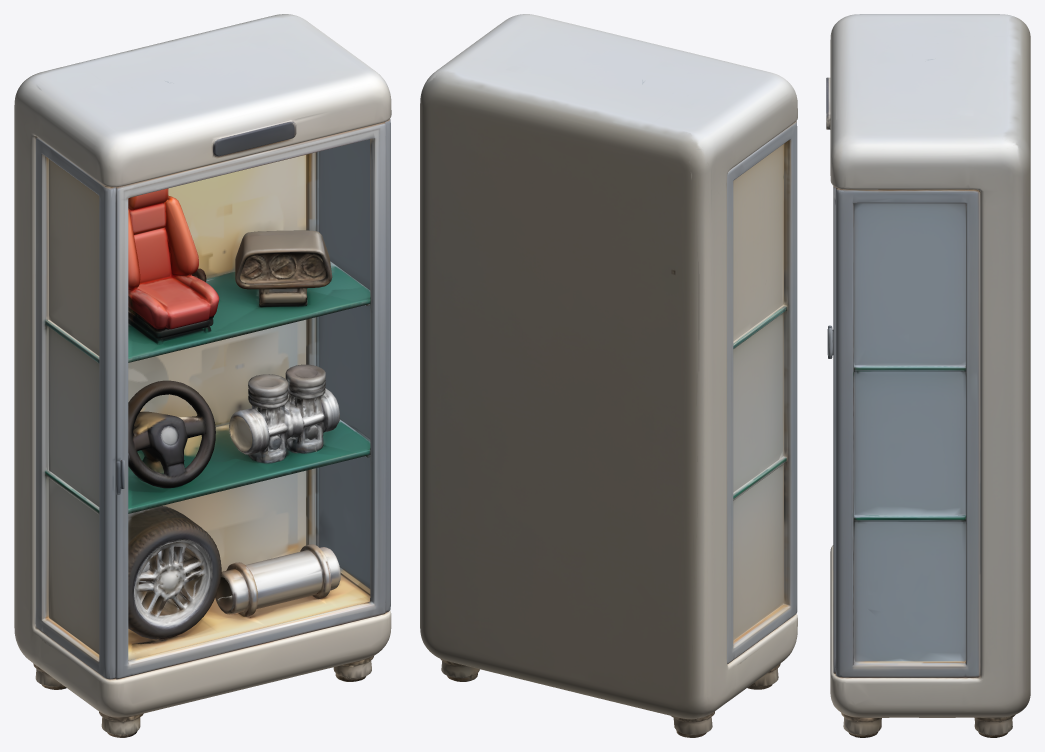
File: guizi.fbx
3 views of the same model, side by side, from view 1: azimuth 30°, elevation 25°; view 2: azimuth 150°, elevation 25°; view 3: azimuth 270°, elevation 25° (orthographic).
Parts seen in each view (by area): view 1: node_0; view 2: node_0; view 3: node_0.
Boxes of the visible parts, x1,y1,x2,y2 form: node_0: (14, 14, 391, 737); node_0: (420, 14, 797, 737); node_0: (826, 14, 1030, 737).
Bounding box in the file's own units: 53.69 × 107 × 33.16.
